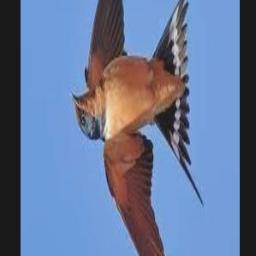Swallow: (68, 0, 204, 256)
